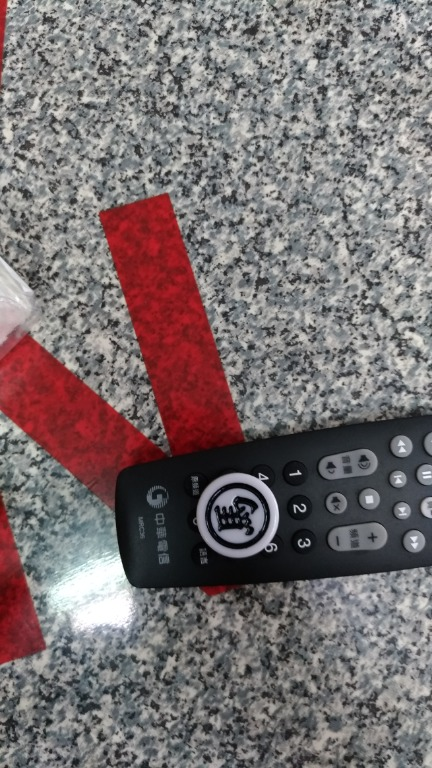b-knight: (189, 471, 303, 569)
